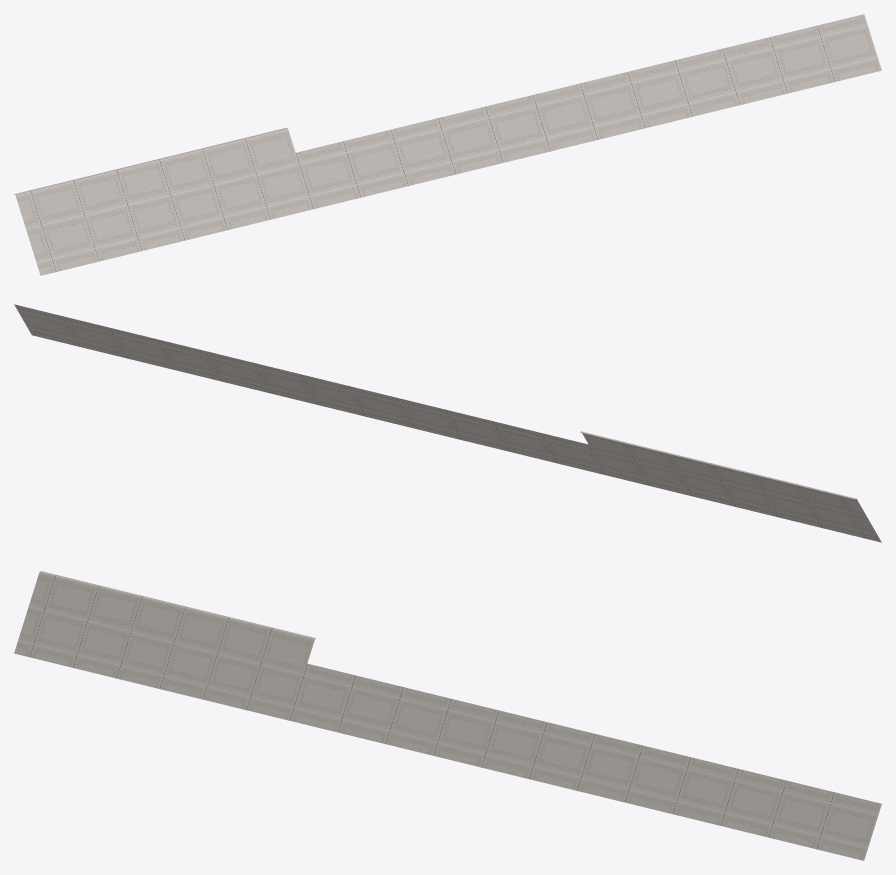
Rendered from kd_stage_135ded_1_16_bounded.glb.
3 renders of one model, top to bottom at view 1: azimuth 30°, elevation 25°; view 2: azimuth 150°, elevation 25°; view 3: azimuth 330°, elevation 25°, orthographic.
Parts seen in each view (by area): view 1: kd_stage_135ded_1_16_bounded; view 2: kd_stage_135ded_1_16_bounded; view 3: kd_stage_135ded_1_16_bounded.
Part boxes in pixels (<box>): kd_stage_135ded_1_16_bounded: <box>14,14,881,275</box>; kd_stage_135ded_1_16_bounded: <box>14,304,881,542</box>; kd_stage_135ded_1_16_bounded: <box>14,571,881,860</box>.
Bounding box in the file's own units: 14.26 × 1.01 × 0.7824.
1 material, 1 textured.
